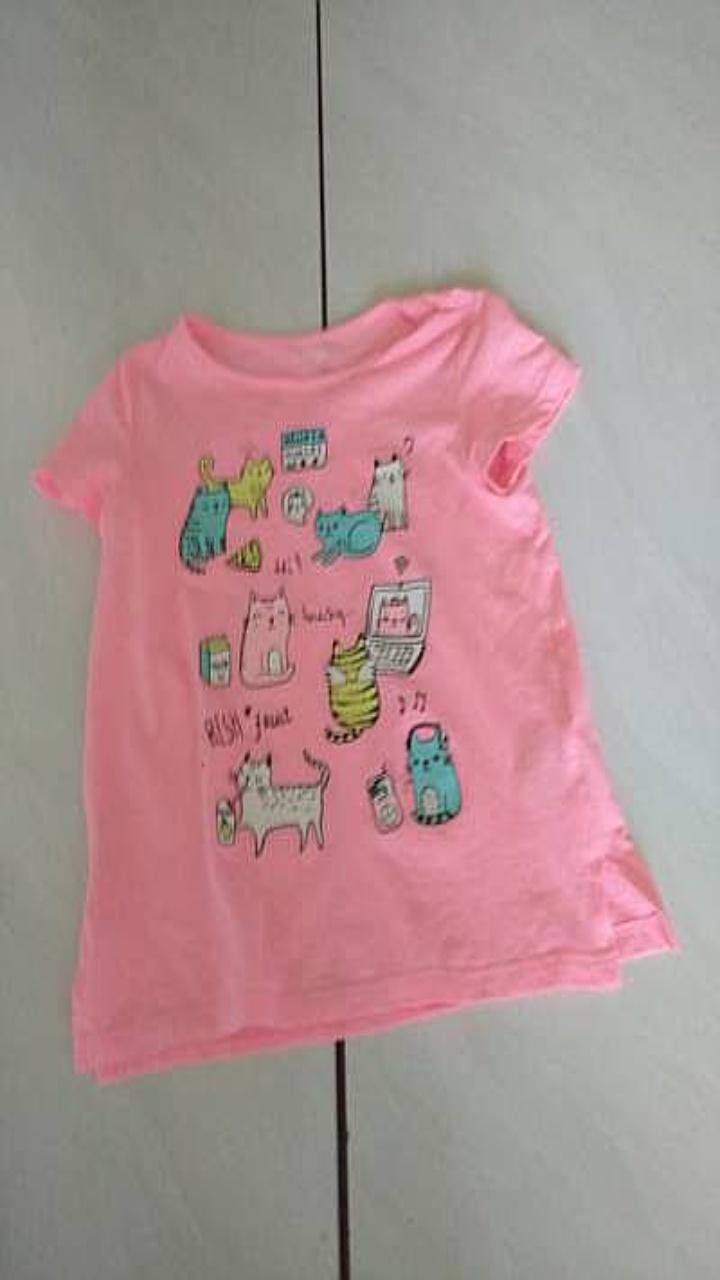T-Shirt: (32, 287, 678, 1081)
